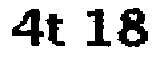1: (83, 7, 118, 53)
4: (8, 7, 45, 52)
8: (117, 7, 154, 53)
t: (44, 11, 70, 53)
